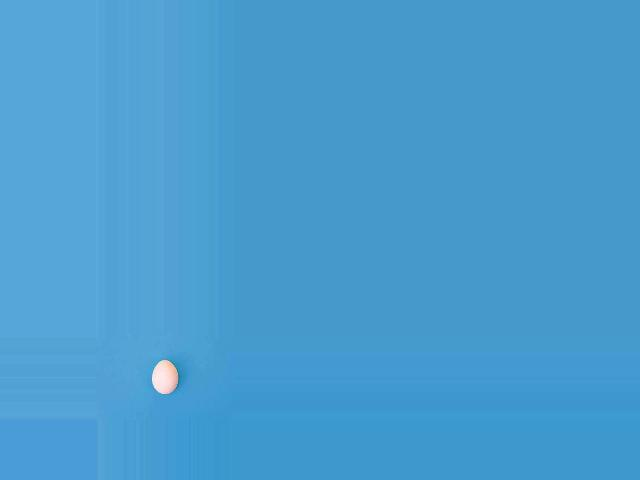egg: (151, 359, 178, 394)
